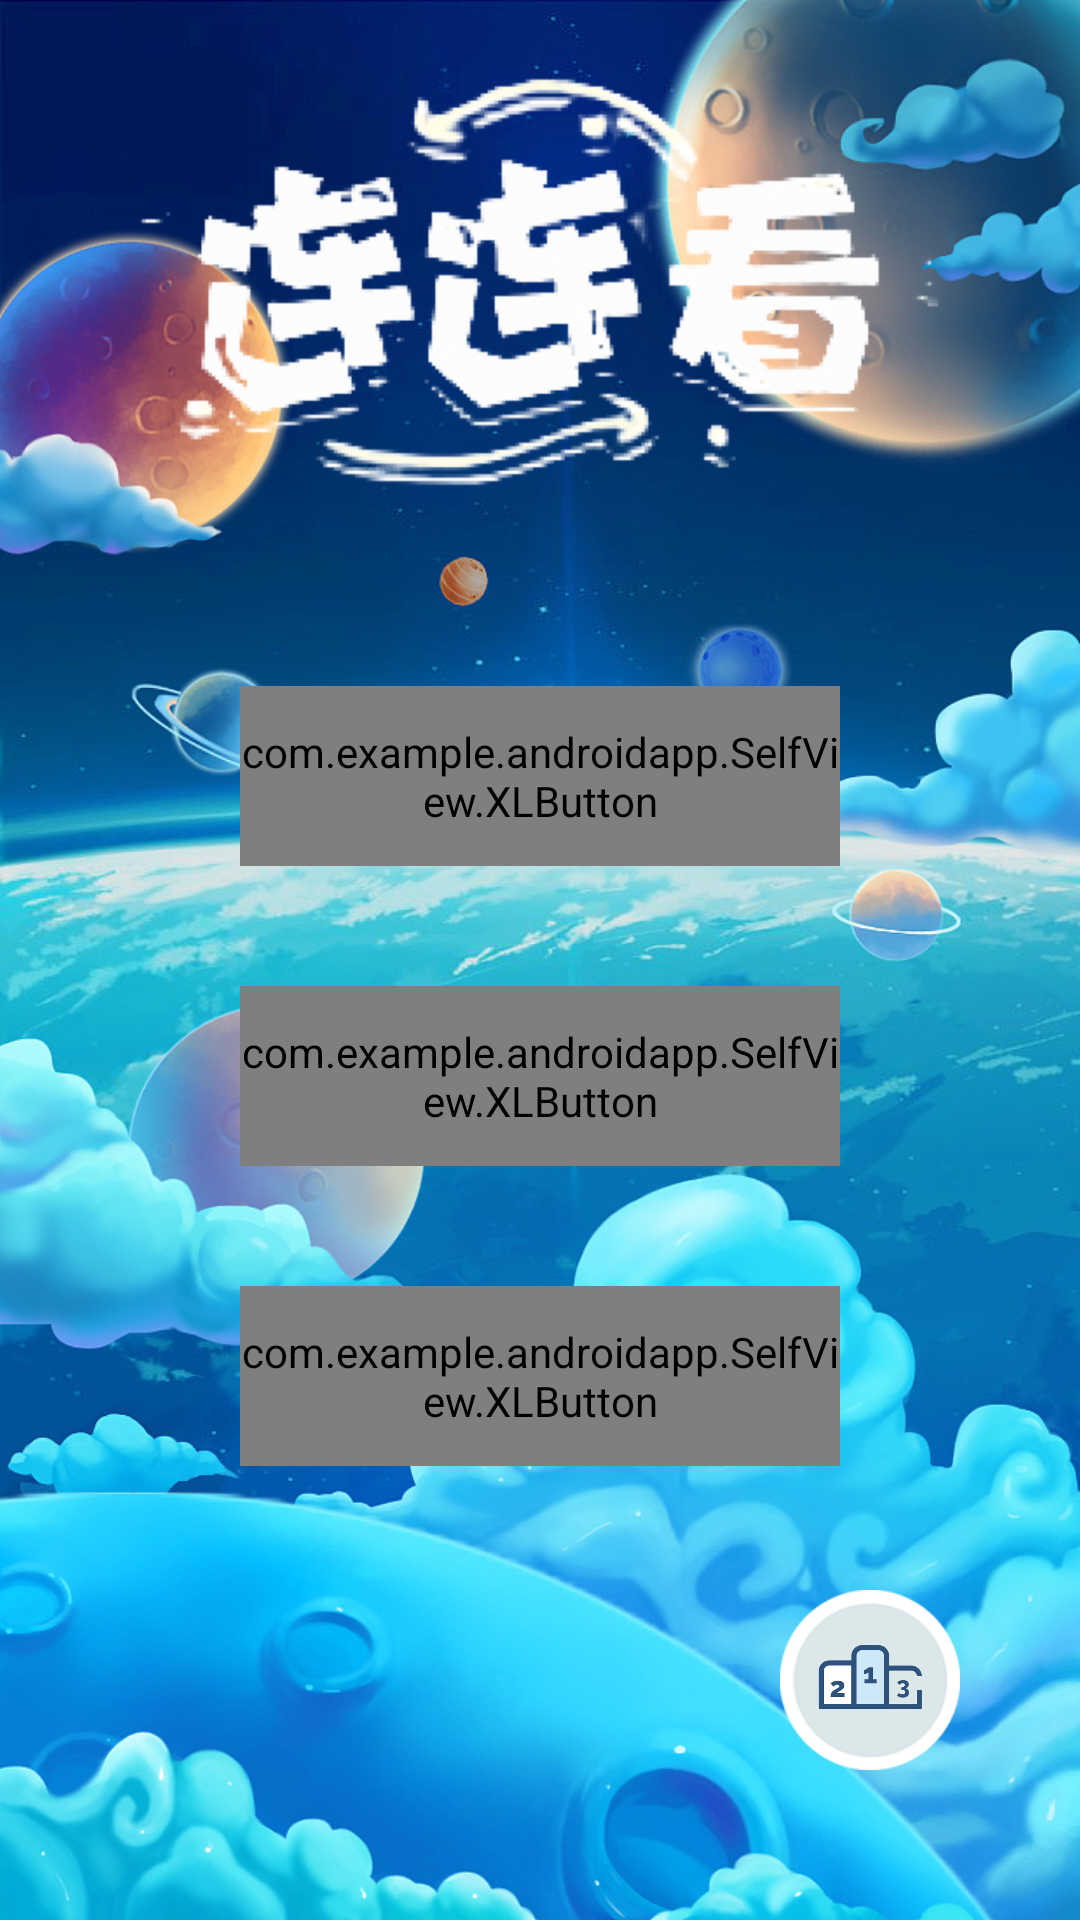

Icons on this 1080w x 1920h Android screen, each with the point to tap as [x,y]:
score: [870,1680]
